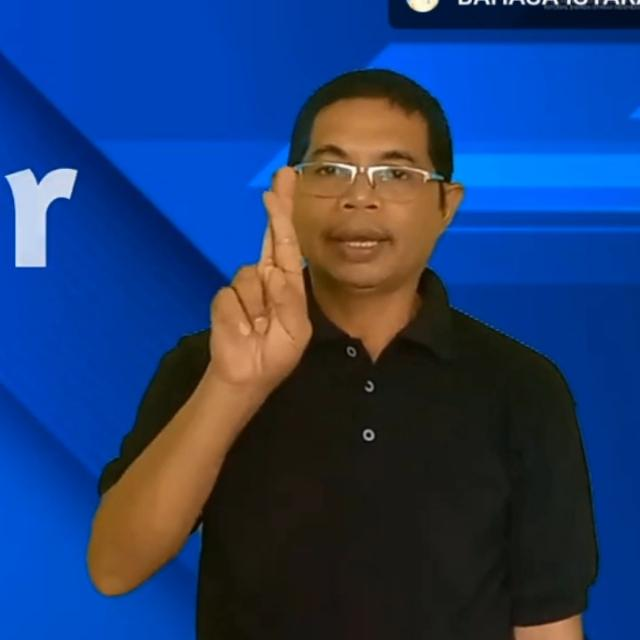R: (208, 163, 312, 383)
